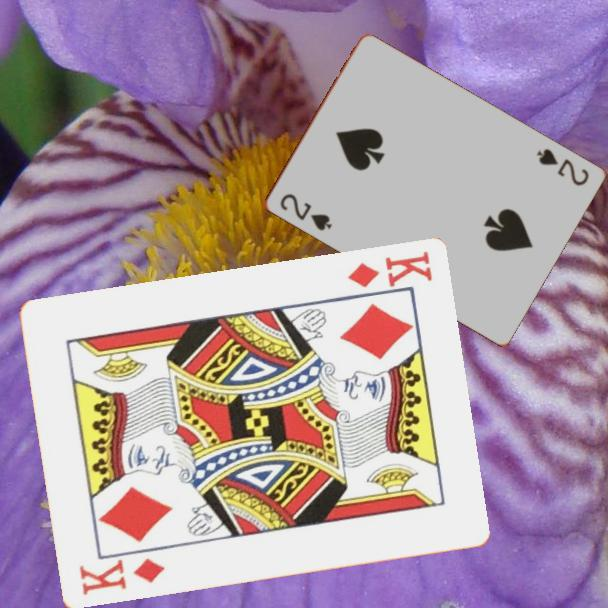d13: (75, 555, 167, 599), (343, 247, 435, 291)
s02: (532, 145, 592, 189), (276, 190, 334, 234)
